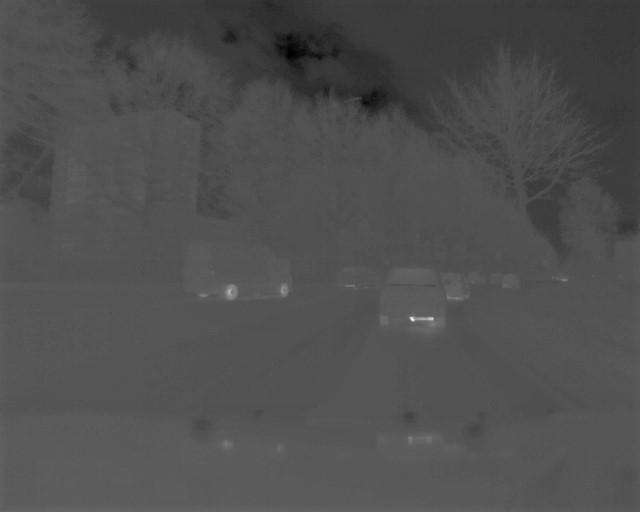car: (181, 237, 294, 303), (376, 265, 447, 330), (331, 262, 382, 290), (438, 270, 474, 303), (500, 271, 521, 290)
